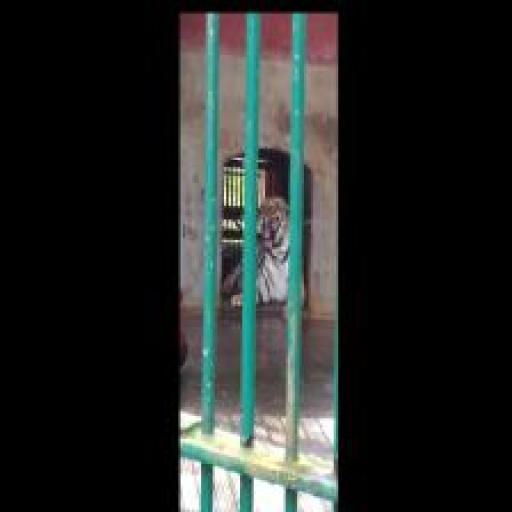Tiger: (222, 185, 308, 324)
